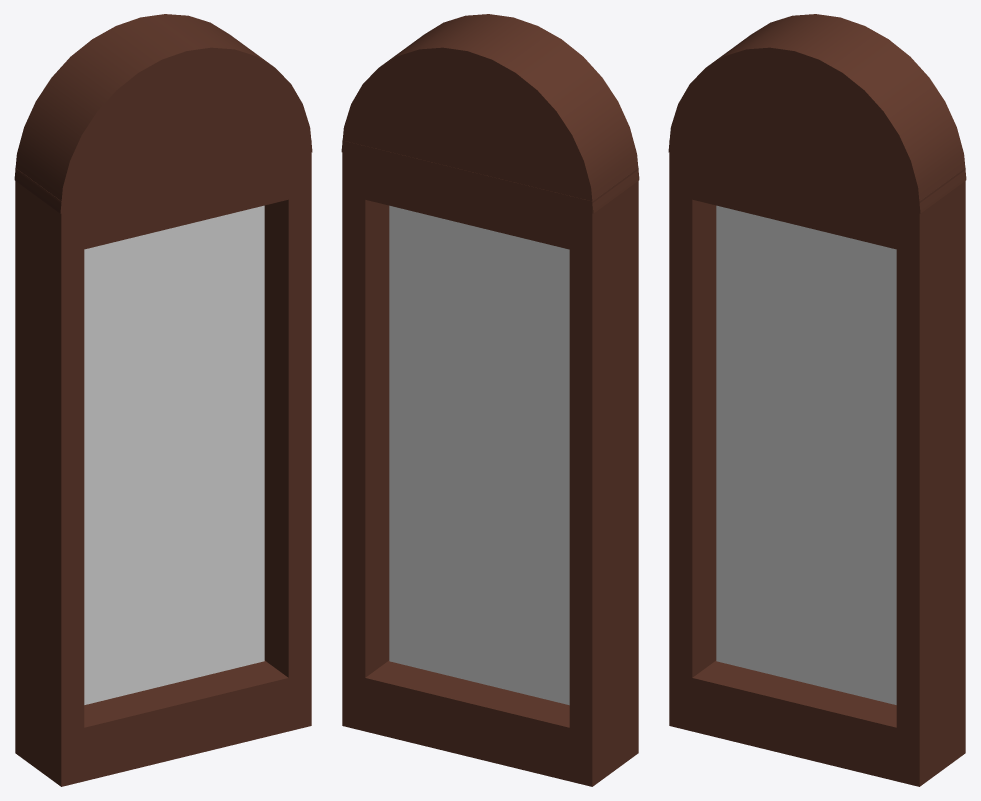
The model's file is roundwindow.fbx.
3 renders of one model, left to right at view 1: azimuth 30°, elevation 25°; view 2: azimuth 150°, elevation 25°; view 3: azimuth 330°, elevation 25°, orthographic.
Visible parts, largest first — view 1: Cube, Plane, Circle; view 2: Cube, Plane, Circle; view 3: Cube, Plane, Circle.
Part boxes in pixels (box(x1,y1,x2,y2)): Cube: box(15, 140, 311, 786); Plane: box(84, 205, 264, 704); Circle: box(14, 14, 312, 213); Cube: box(342, 140, 638, 786); Plane: box(389, 205, 569, 705); Circle: box(341, 14, 639, 213); Cube: box(669, 140, 965, 786); Plane: box(716, 205, 896, 704); Circle: box(668, 14, 966, 213).
Size of the model in its own units: 249 by 667 by 78.96.
